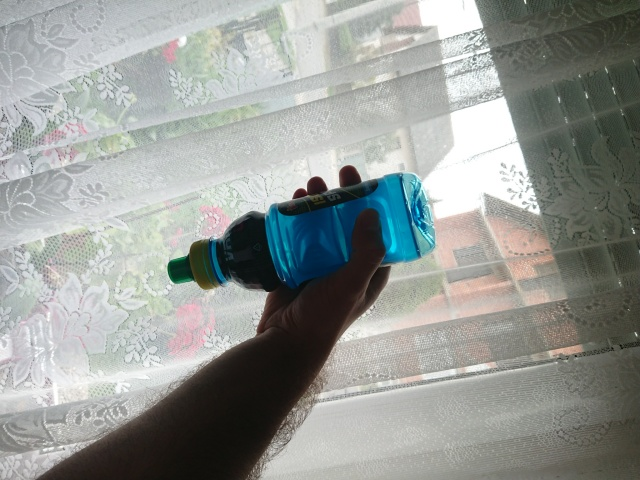Vindi Iso Sport Forest Strawberries 500mL: (165, 169, 439, 295)
